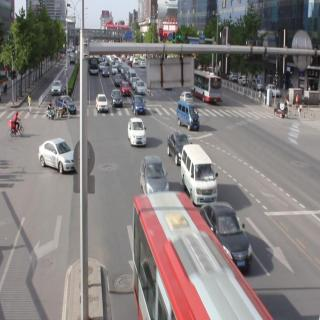BigCar: (123, 172, 248, 320), (189, 62, 224, 108), (84, 46, 105, 74)
Car: (196, 190, 253, 266), (177, 144, 223, 204), (38, 126, 76, 180), (139, 148, 167, 195), (166, 132, 193, 179), (123, 107, 146, 152), (177, 96, 201, 136), (59, 89, 77, 115), (48, 73, 68, 95), (92, 90, 108, 117), (134, 75, 150, 102), (131, 90, 147, 116), (178, 89, 196, 108), (110, 88, 124, 112), (112, 73, 125, 92), (121, 81, 132, 100), (99, 62, 110, 78)
